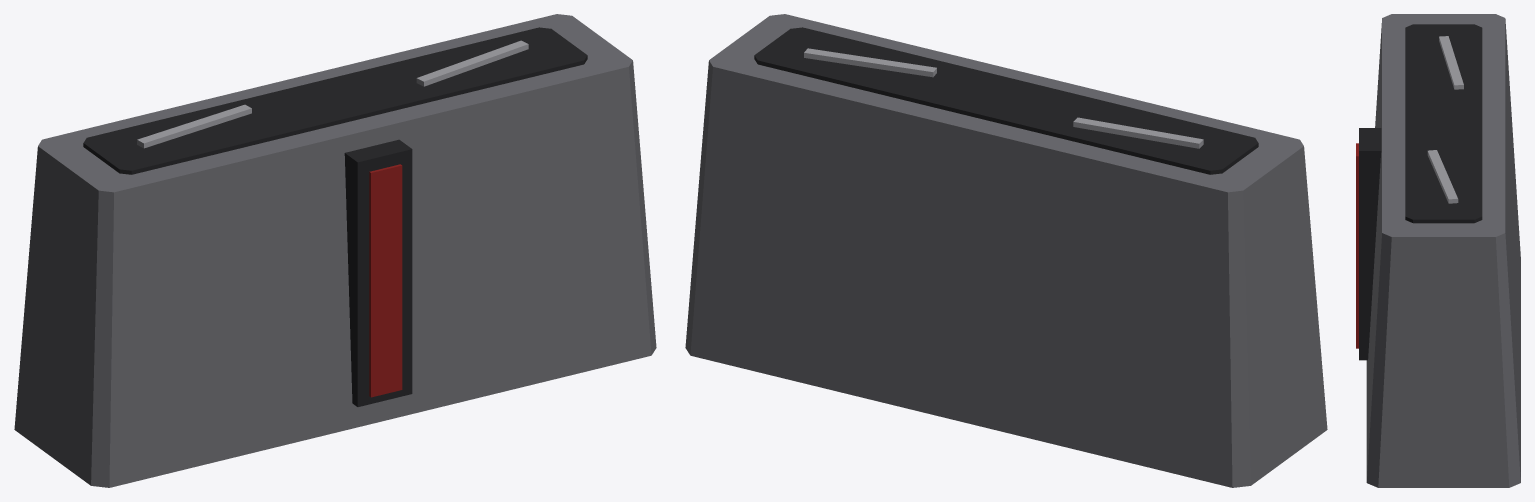
The model's file is void_monolith_top_c.obj.
The picture shows the model from 3 angles, left to right: view 1: azimuth 30°, elevation 25°; view 2: azimuth 150°, elevation 25°; view 3: azimuth 270°, elevation 25°; orthographic projection. The views are drawn at different scales.
Parts seen in each view (by area): view 1: void_monolith_top_c_0, void_monolith_top_c_1, void_monolith_top_c_4, void_monolith_top_c_5, void_monolith_top_c_2, void_monolith_top_c_3; view 2: void_monolith_top_c_0, void_monolith_top_c_1, void_monolith_top_c_3, void_monolith_top_c_2; view 3: void_monolith_top_c_0, void_monolith_top_c_1, void_monolith_top_c_4, void_monolith_top_c_3, void_monolith_top_c_2, void_monolith_top_c_5.
Boxes of the visible parts, x1,y1,x2,y2 form: void_monolith_top_c_0: (14, 14, 656, 487); void_monolith_top_c_1: (83, 27, 587, 174); void_monolith_top_c_4: (344, 139, 412, 406); void_monolith_top_c_5: (369, 164, 402, 397); void_monolith_top_c_2: (137, 104, 251, 148); void_monolith_top_c_3: (416, 40, 528, 86); void_monolith_top_c_0: (685, 14, 1327, 487); void_monolith_top_c_1: (754, 27, 1258, 174); void_monolith_top_c_3: (804, 48, 936, 77); void_monolith_top_c_2: (1073, 117, 1203, 148); void_monolith_top_c_0: (1366, 14, 1520, 487); void_monolith_top_c_1: (1405, 24, 1482, 223); void_monolith_top_c_4: (1359, 128, 1381, 360); void_monolith_top_c_3: (1427, 150, 1458, 203); void_monolith_top_c_2: (1439, 36, 1463, 89); void_monolith_top_c_5: (1356, 143, 1358, 348).
Bounding box in the file's own units: 2.9 × 1.45 × 0.855.
